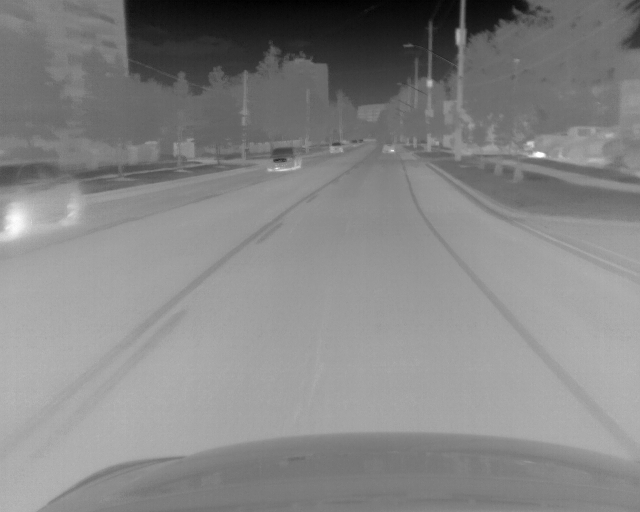car: (1, 160, 83, 239), (530, 126, 614, 157), (576, 133, 640, 169), (267, 147, 302, 171), (329, 141, 343, 154), (382, 143, 396, 154), (350, 138, 364, 146)
